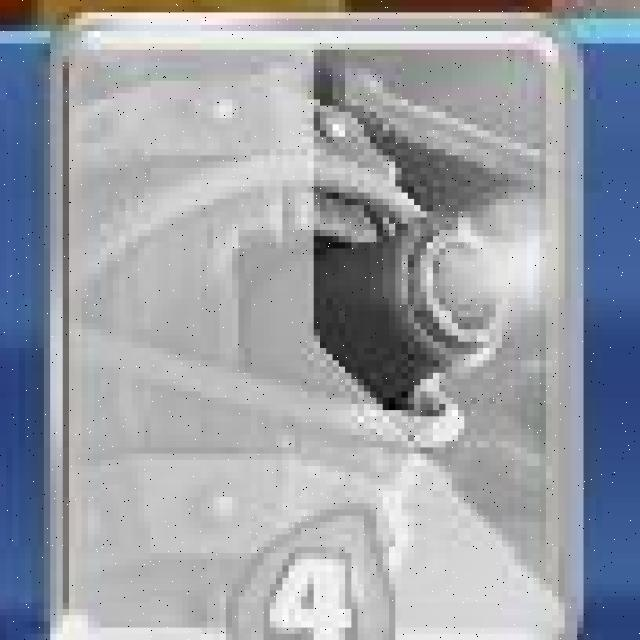Flying_Machine: (43, 16, 584, 640)
